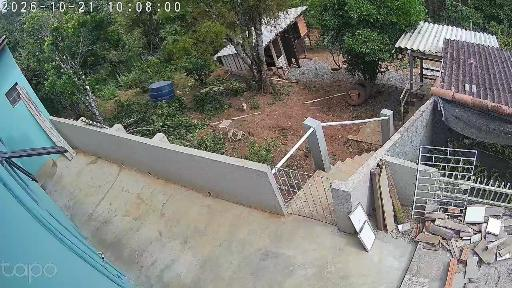galinha: (241, 103, 247, 112)
